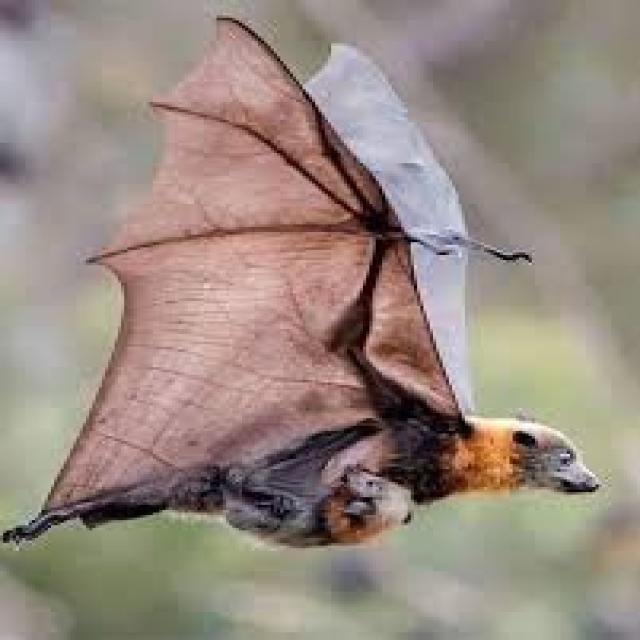Bat: (6, 18, 597, 556)
